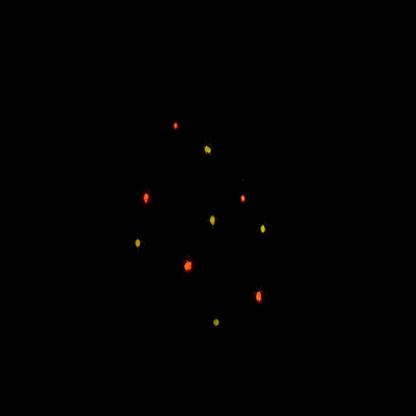PE: (200, 133, 219, 168), (208, 309, 227, 340), (205, 208, 222, 235), (255, 219, 272, 243), (131, 232, 147, 256)
PVC: (178, 247, 198, 284), (140, 178, 158, 213), (249, 283, 268, 312), (170, 116, 183, 146), (240, 188, 250, 212)
